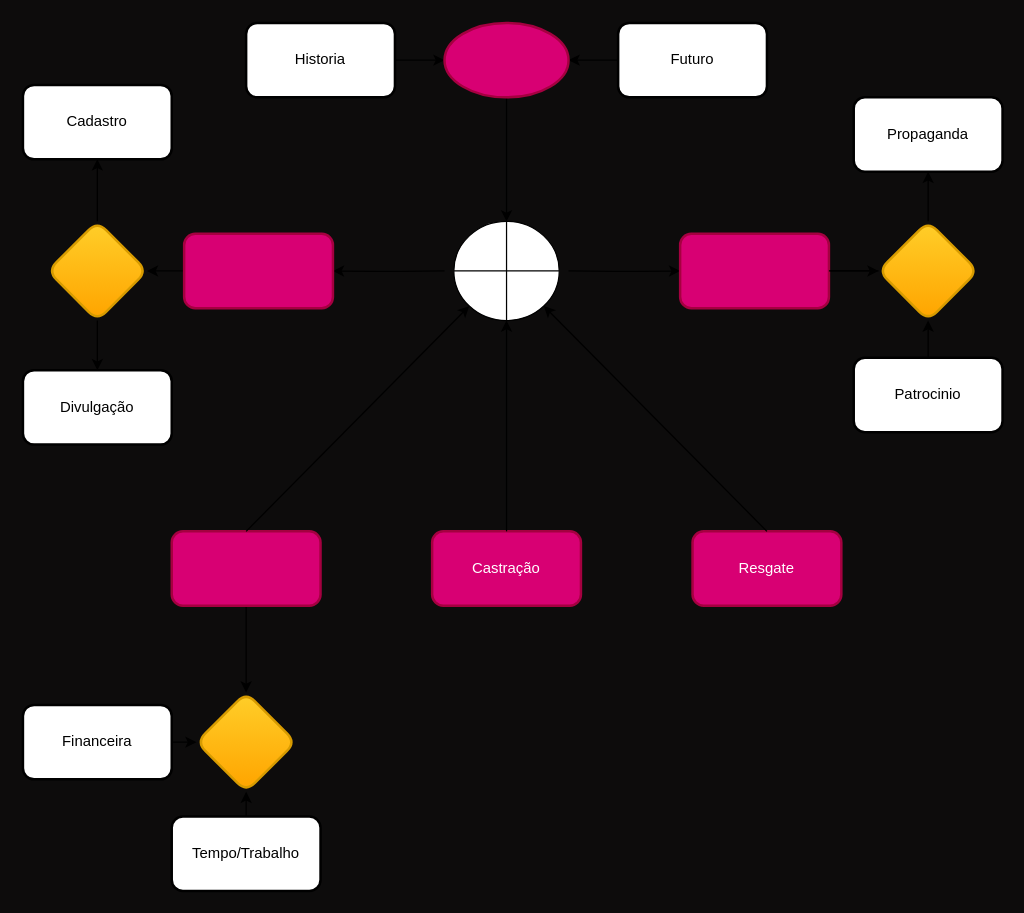
Image size: 1024x913. Some labels were removed from this diagram. The shapes that lost their labels are listed below. From the top down, each one's centre as x and y in pixels, then its label:
At point 506,59: "plataforma".
At point 258,270: "Adoção".
At point 754,270: "Parceria".
At point 245,567: "Doação".
